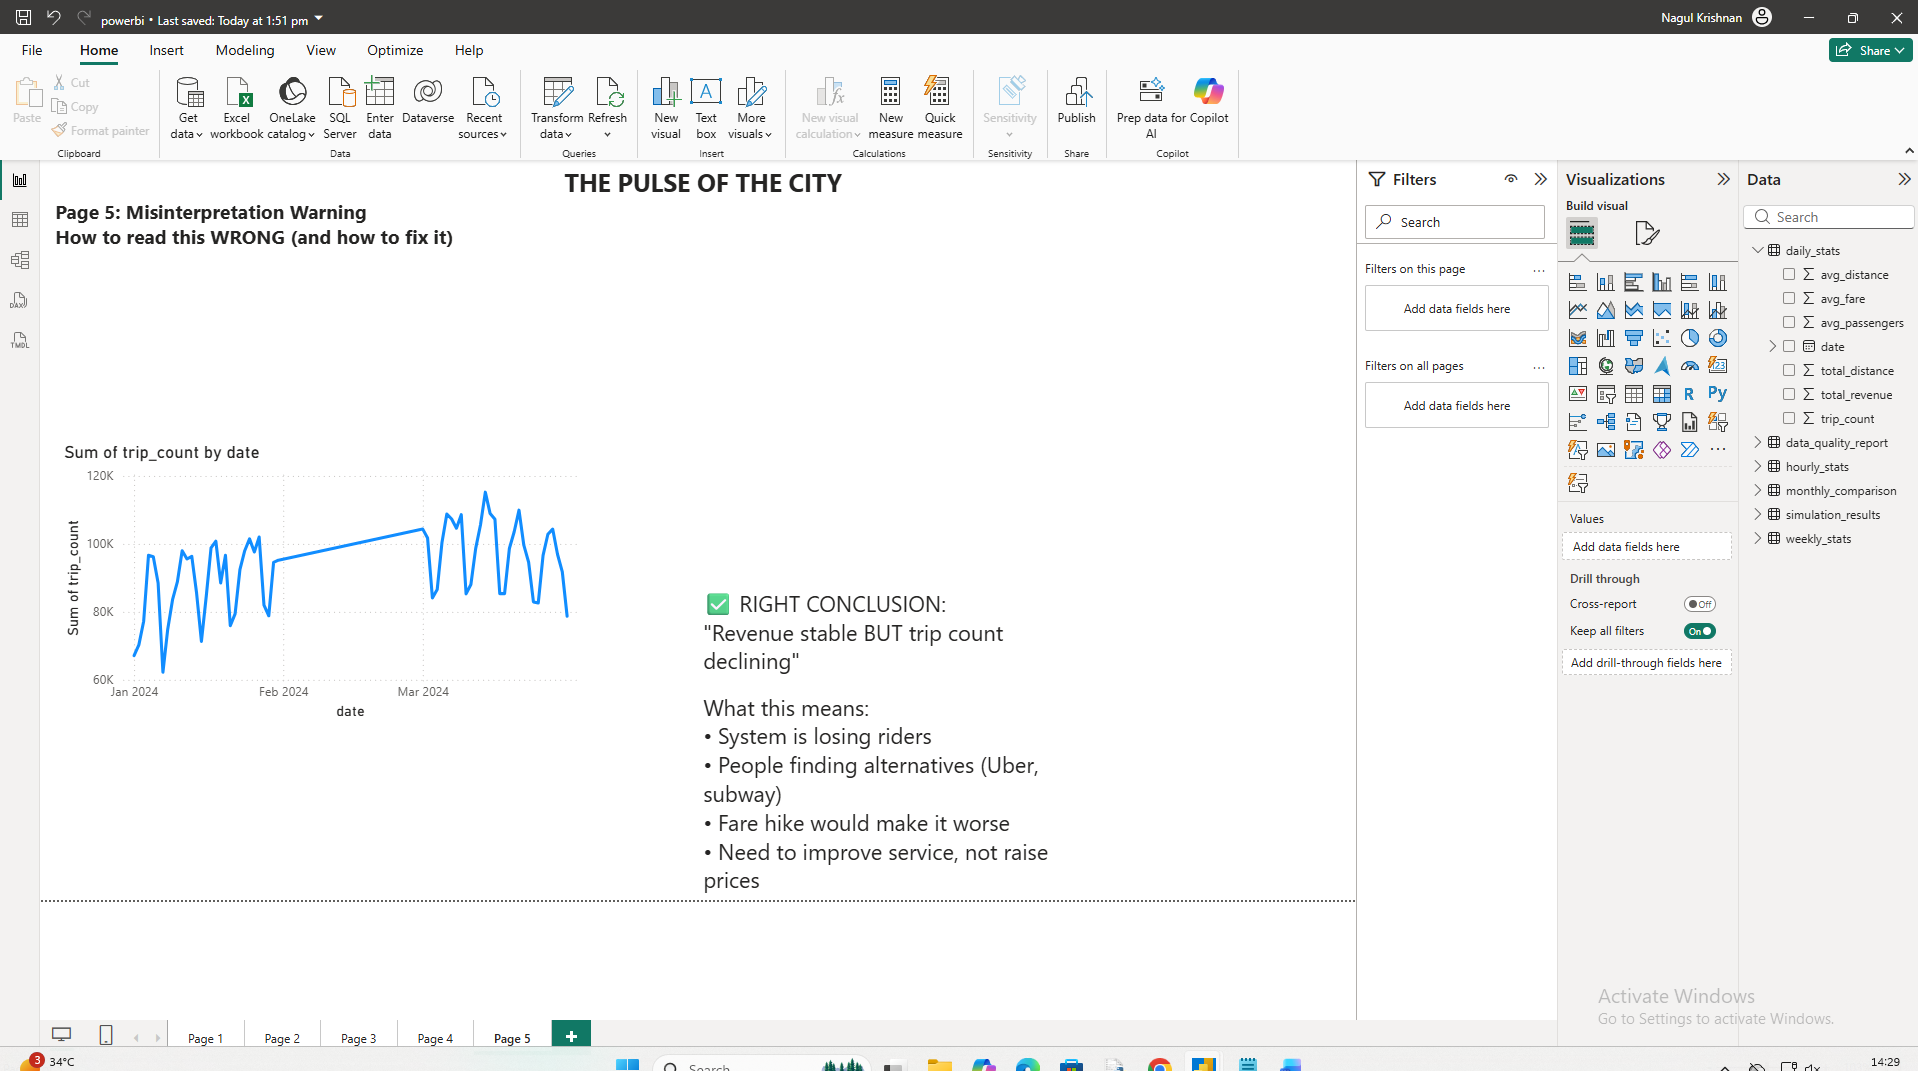

Layout of this report page (visuals, bound fields, positions):
{"tool":"powerbi","page":{"name":"Page 5","canvas":[1280,720],"ordinal":4},"visuals":[{"type":"textbox","box":[9.7,0,1270.3,155.6],"z":0},{"type":"textbox","box":[10,530,470,190],"z":2000},{"type":"textbox","box":[640,411.4,392.9,308.3],"z":3000},{"type":"lineChart","fields":{"Category":["daily_stats.date"],"Y":["Sum(daily_stats.trip_count)"]},"box":[18.5,274.3,525.2,274.3],"z":3001}]}

Visuals, with their boxes on the page's 1280x720 design canvas (x1, y1, x2, y2). These are canvas units, not pixel positions in the 1918x1071 screenshot, which may show the page scaled, cropped or inside an application window:
textbox: x1=10 y1=0 x2=1280 y2=156
textbox: x1=10 y1=530 x2=480 y2=720
textbox: x1=640 y1=411 x2=1033 y2=720
lineChart - daily_stats.date x Sum(daily_stats.trip_count): x1=18 y1=274 x2=544 y2=549
